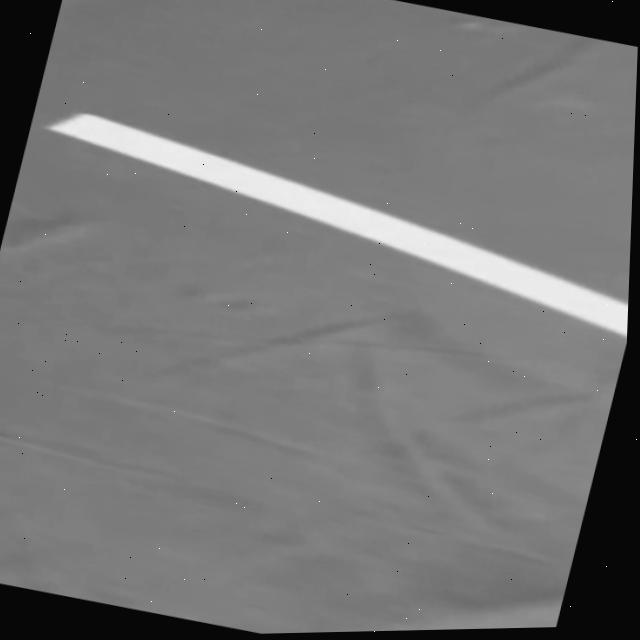center: (45, 114, 628, 338)
